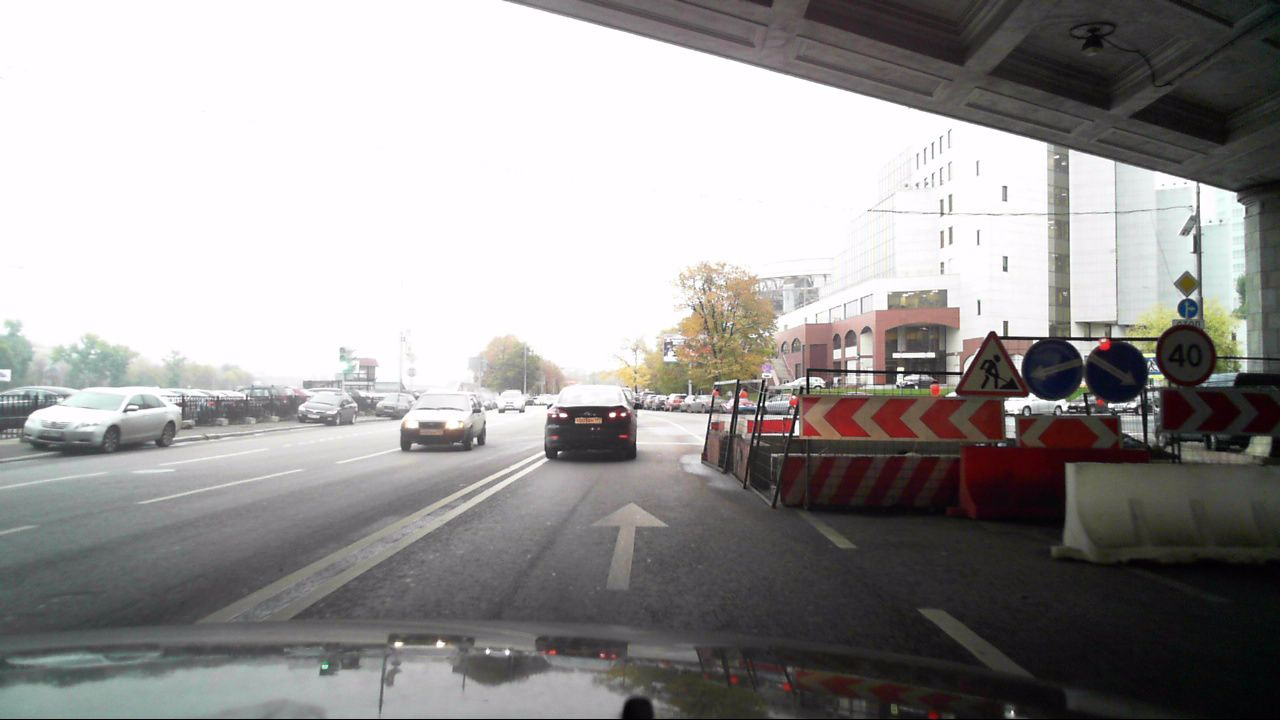speed_warning_40: (1157, 327, 1215, 385)
